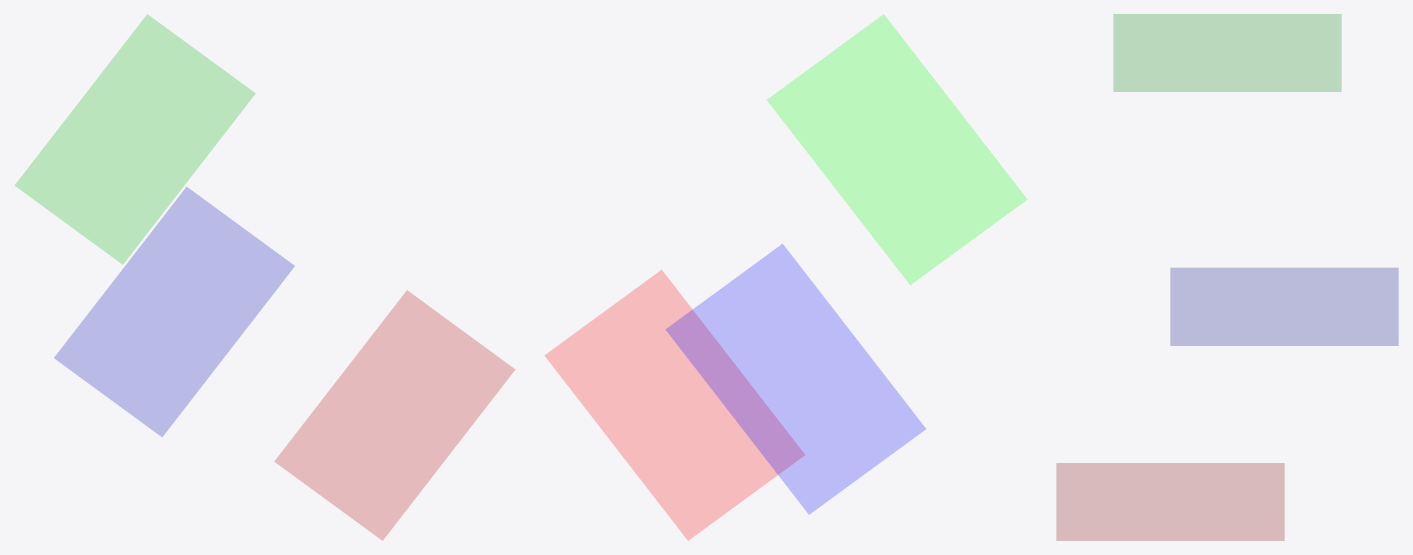
Rendered from teapot scene five.glb.
3 renders of one model, left to right at view 1: azimuth 30°, elevation 25°; view 2: azimuth 150°, elevation 25°; view 3: azimuth 270°, elevation 25°, orthographic. The views are drawn at different scales.
Parts seen in each view (by area): view 1: blue lens, green lens, red lens; view 2: blue lens, green lens, red lens; view 3: blue lens, green lens, red lens.
Boxes of the visible parts, x1,y1,x2,y2 form: blue lens: (54,187,294,436); green lens: (15,14,254,264); red lens: (275,290,514,540); blue lens: (666,244,925,514); green lens: (767,14,1026,284); red lens: (545,270,804,540); blue lens: (1170,268,1398,345); green lens: (1113,14,1341,91); red lens: (1056,463,1284,540).
Size of what is drawn, in the model's own units: 3.89 by 4.6 by 3.
3 materials, 3 textured.
